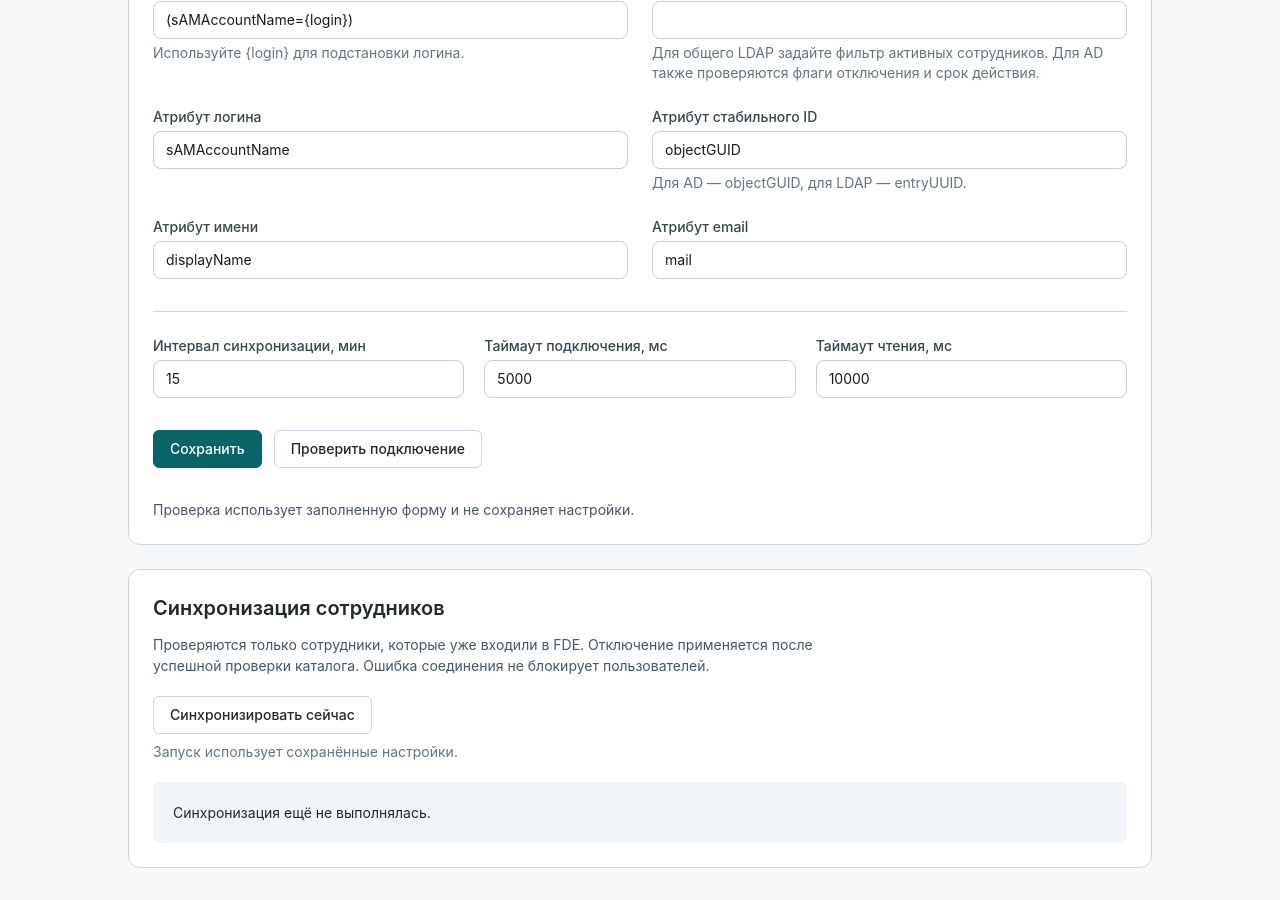
Scenario: LDAP settings › shows actual synchronization results and uses the saved configuration
(page scrolled)
Click the button "Синхронизировать сейчас" at coordinates (262, 715), box top-left (153, 696), bottom-right (372, 734)
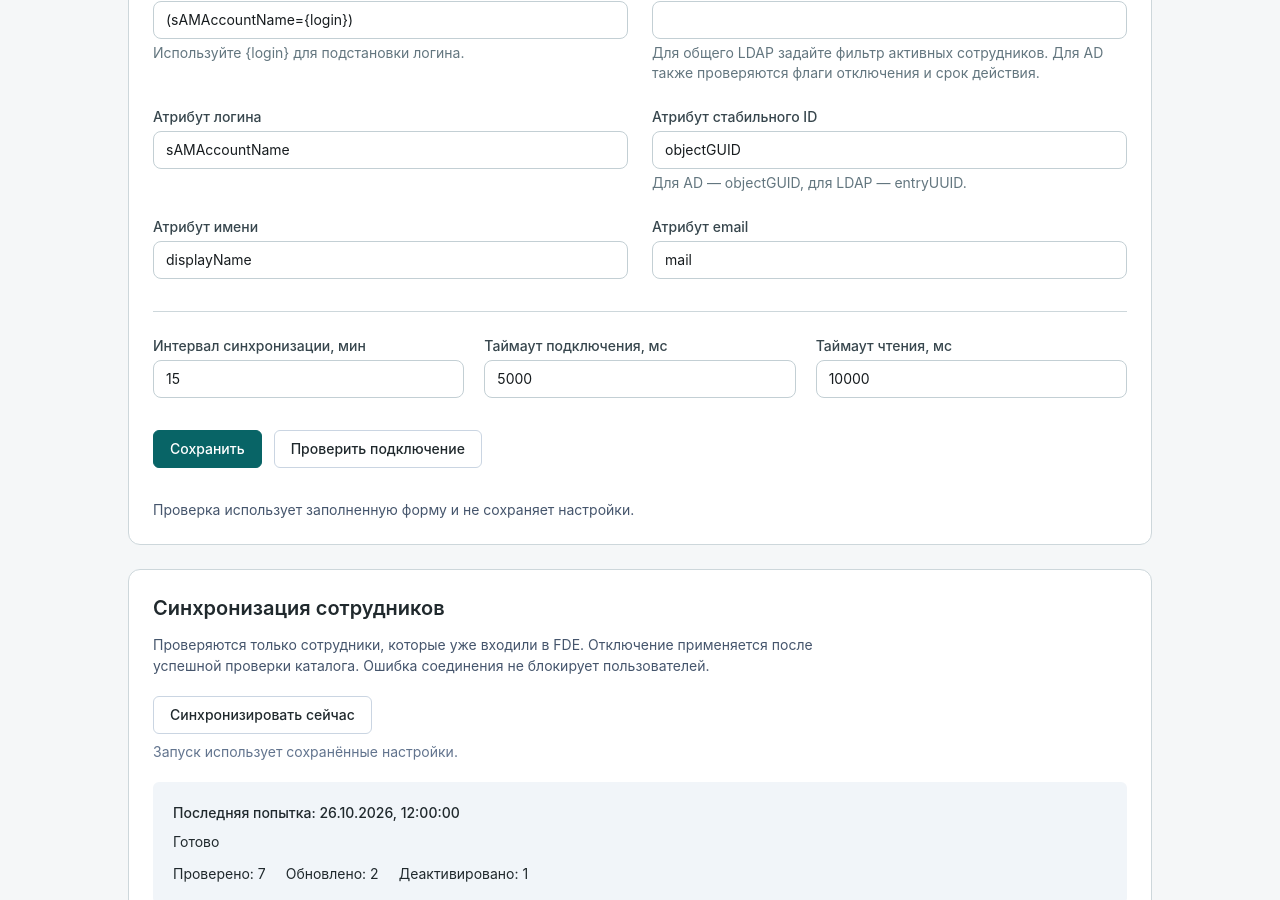
expect the text "Готово" is shown: met, box top-left (173, 833), bottom-right (219, 850)
expect the text "Проверено: 7" is shown: met, box top-left (173, 864), bottom-right (266, 884)
